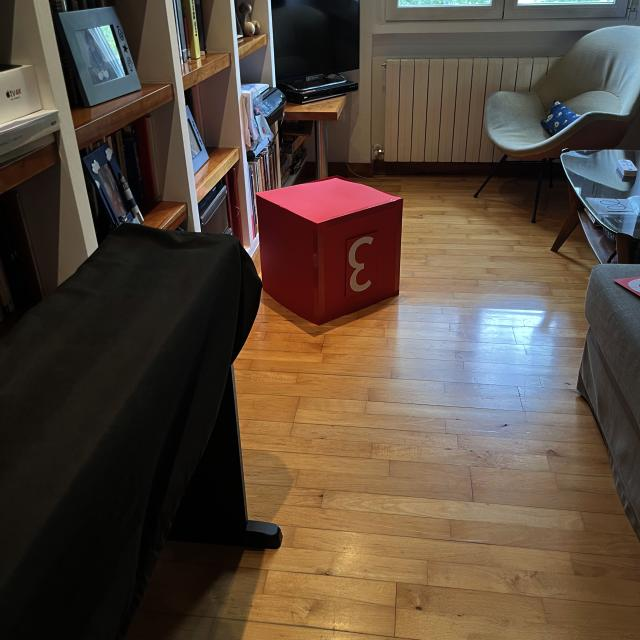box: (253, 172, 406, 326)
